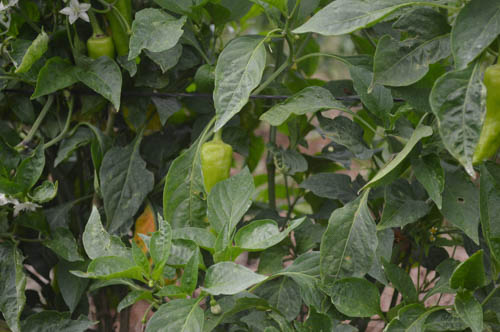ChiliPepper: (476, 65, 500, 164), (203, 143, 235, 213), (104, 3, 134, 57), (82, 38, 113, 74)
